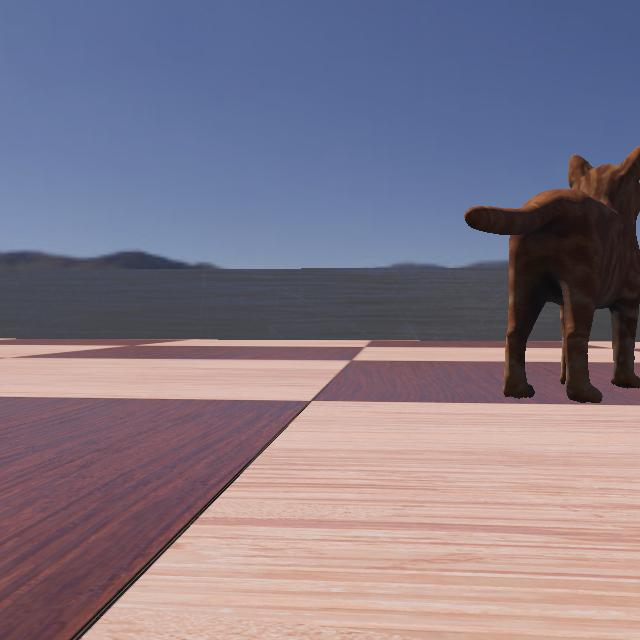cat: (399, 41, 639, 426)
